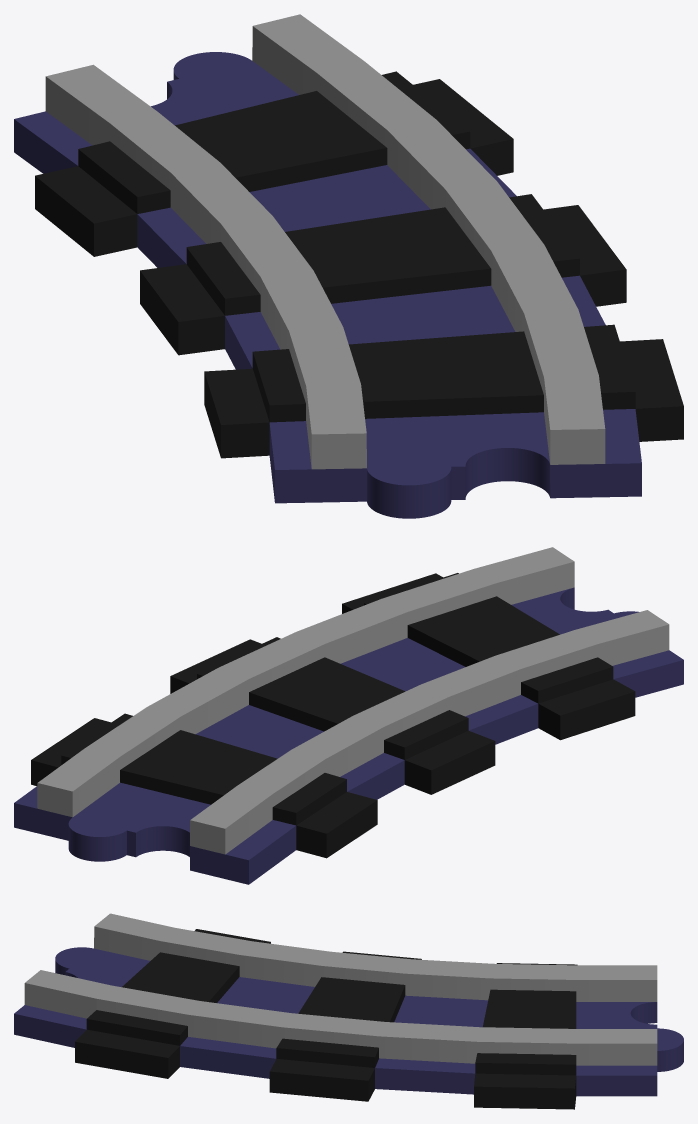
The model's file is 30CRail.fbx.
3 renders of one model, top to bottom at view 1: azimuth 30°, elevation 25°; view 2: azimuth 150°, elevation 25°; view 3: azimuth 270°, elevation 25°, orthographic. The views are drawn at different scales.
Parts seen in each view (by area): view 1: Cube.010; view 2: Cube.010; view 3: Cube.010.
Boxes of the visible parts, x1,y1,x2,y2 form: Cube.010: (14,14,683,518); Cube.010: (14,547,683,884); Cube.010: (14,913,683,1109).
Size of the model in its own units: 330 by 41.18 by 578.
